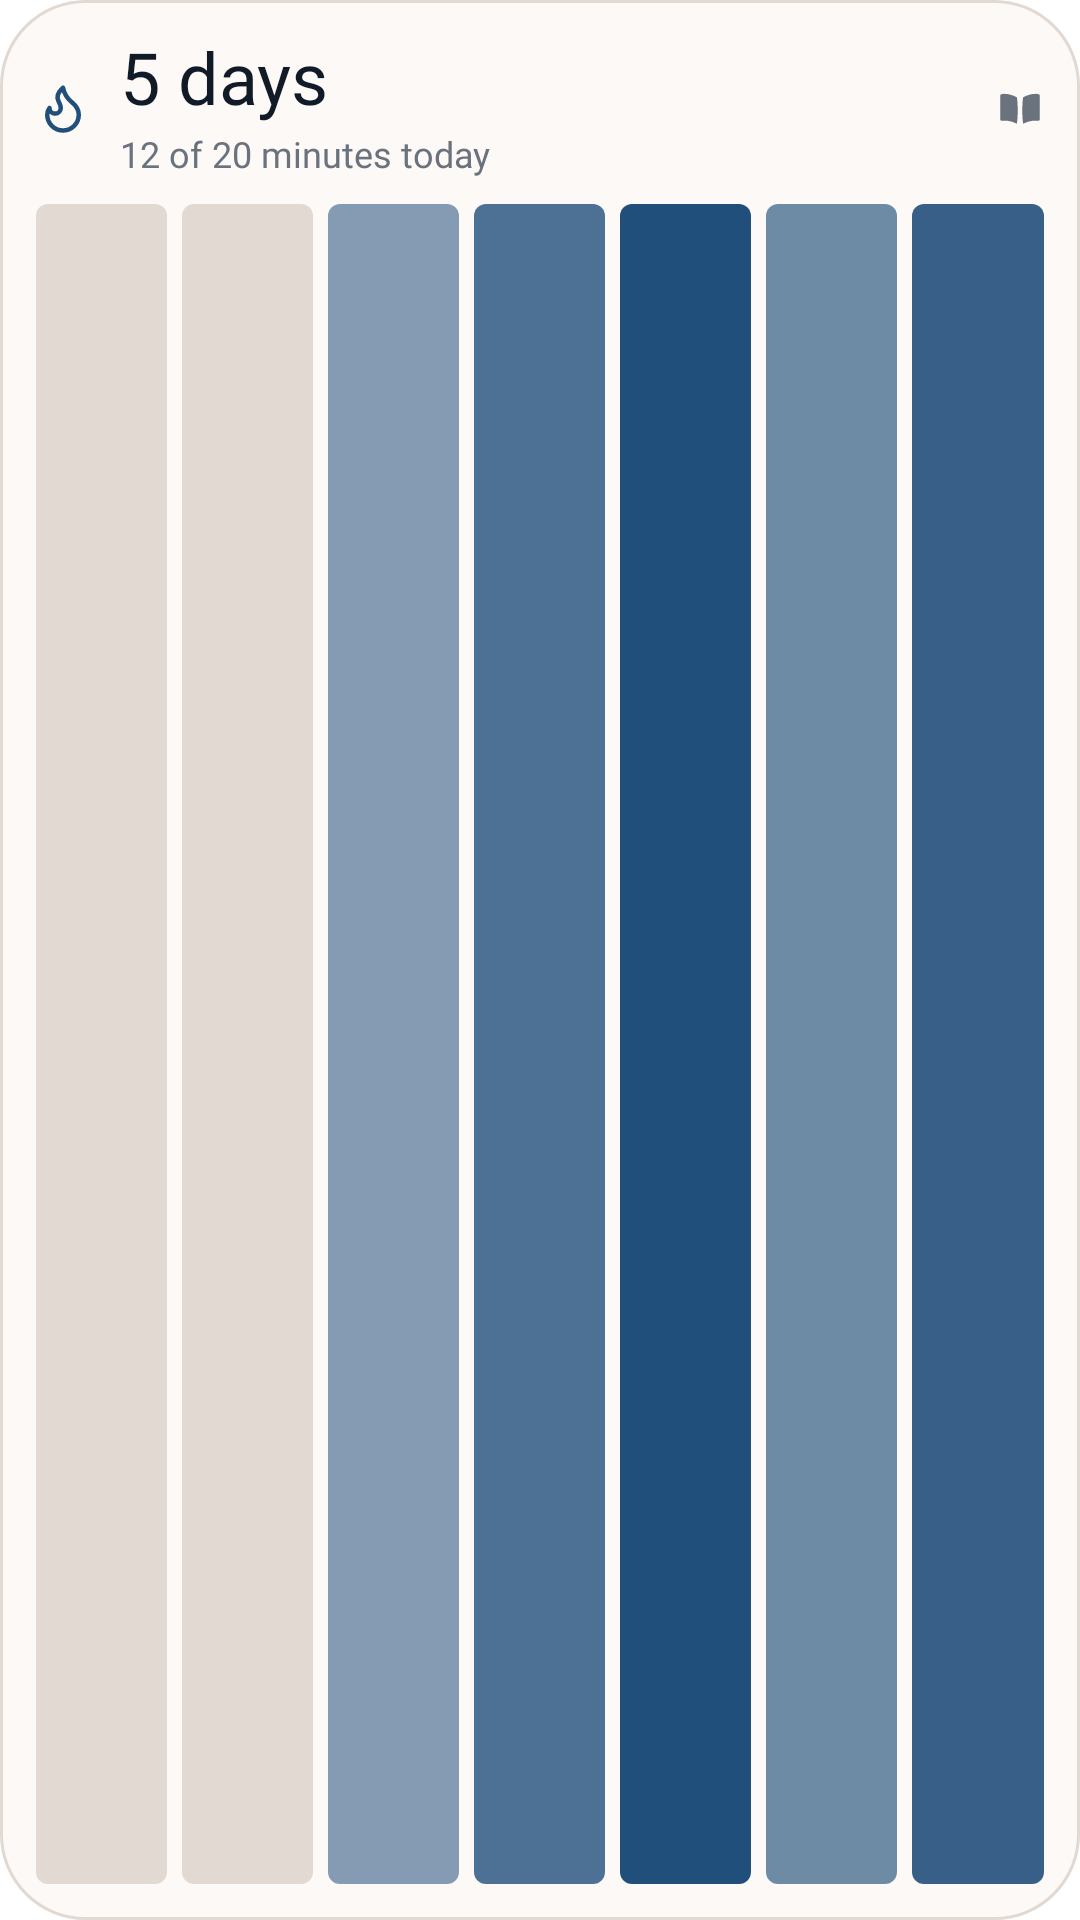

Named icons in this screenshot (1080w x 1920h) and their centers, (x,y):
flame: (63,109)
